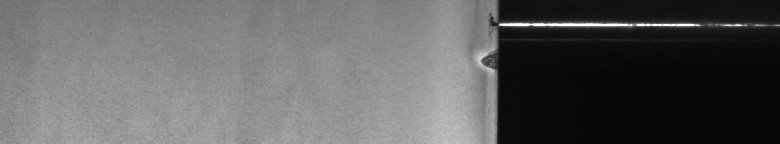hb: (469, 45, 488, 90)
